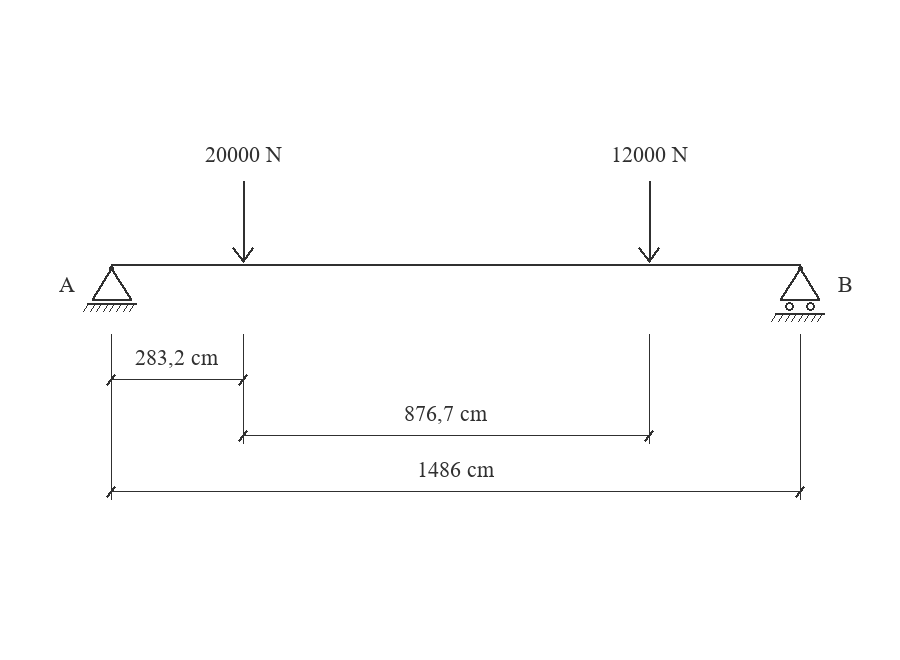pin_support: (83, 266, 137, 312)
point_load: (232, 181, 254, 263), (638, 181, 660, 263)
roller_support: (771, 266, 825, 322)
